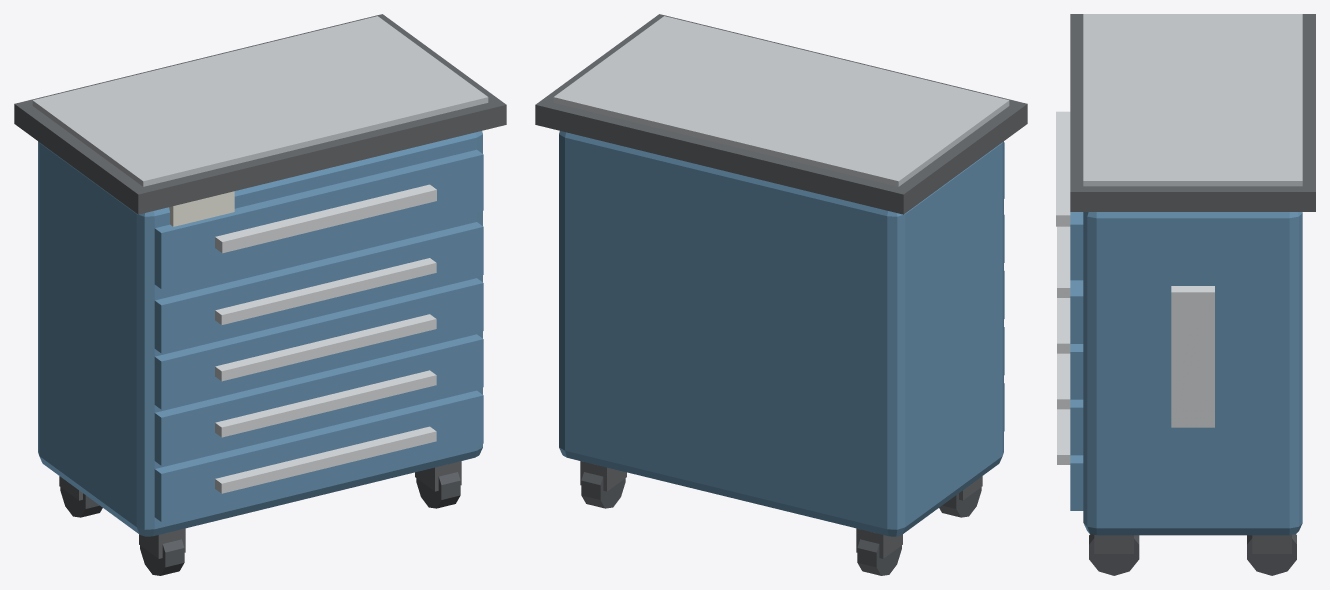
The model's file is mobile-tool-cabinet-with-drawers.glb.
3 renders of one model, left to right at view 1: azimuth 30°, elevation 25°; view 2: azimuth 150°, elevation 25°; view 3: azimuth 270°, elevation 25°, orthographic.
Parts seen in each view (by area): view 1: machine-shop-and-factory-hall-tool-cabinet, cabinet-drawer/blue, cabinet-drawer/steel; view 2: machine-shop-and-factory-hall-tool-cabinet; view 3: machine-shop-and-factory-hall-tool-cabinet, cabinet-drawer/steel, cabinet-drawer/blue.
Part boxes in pixels (box(x1,y1,x2,y2)): machine-shop-and-factory-hall-tool-cabinet: box(14, 14, 506, 575); cabinet-drawer/blue: box(154, 149, 483, 289); cabinet-drawer/steel: box(215, 184, 436, 253); machine-shop-and-factory-hall-tool-cabinet: box(535, 14, 1027, 575); machine-shop-and-factory-hall-tool-cabinet: box(1057, 14, 1315, 575); cabinet-drawer/steel: box(1056, 111, 1070, 226); cabinet-drawer/blue: box(1070, 212, 1083, 280).
Bounding box in the file's own units: 0.965 × 1.02 × 0.5925.
